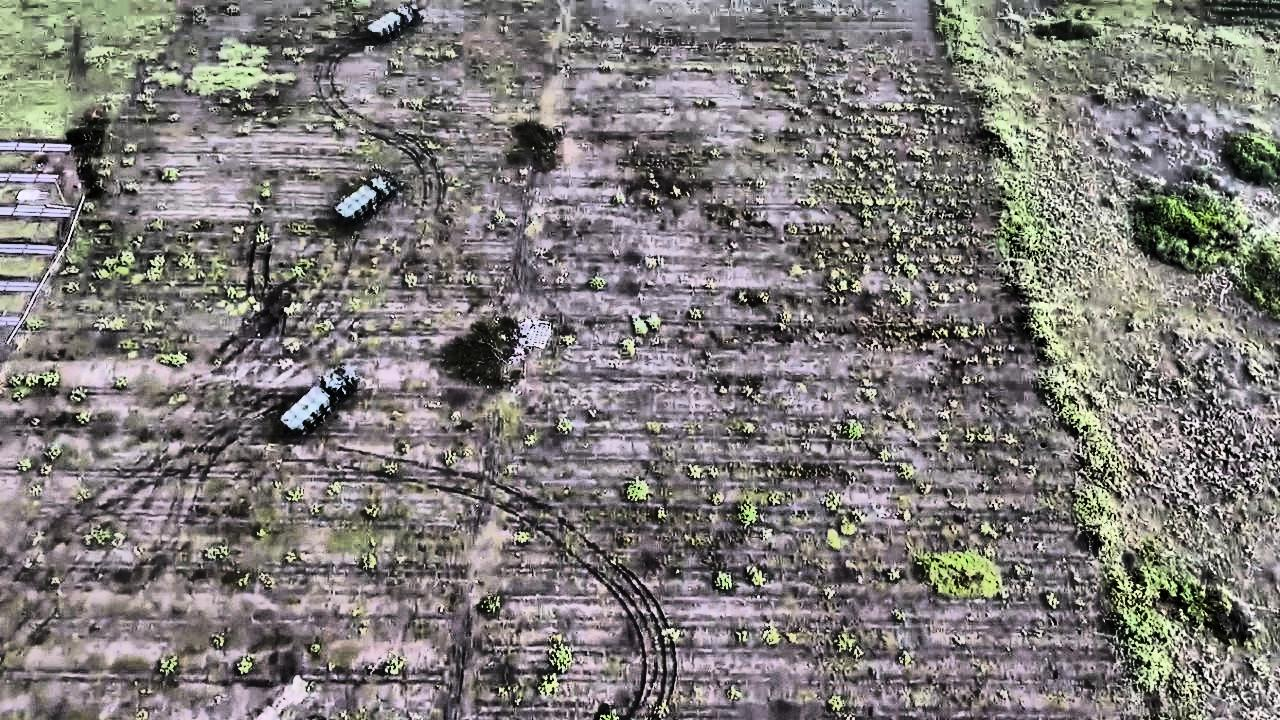military-vehicle: (281, 369, 358, 439), (336, 173, 398, 222), (364, 3, 421, 42)
